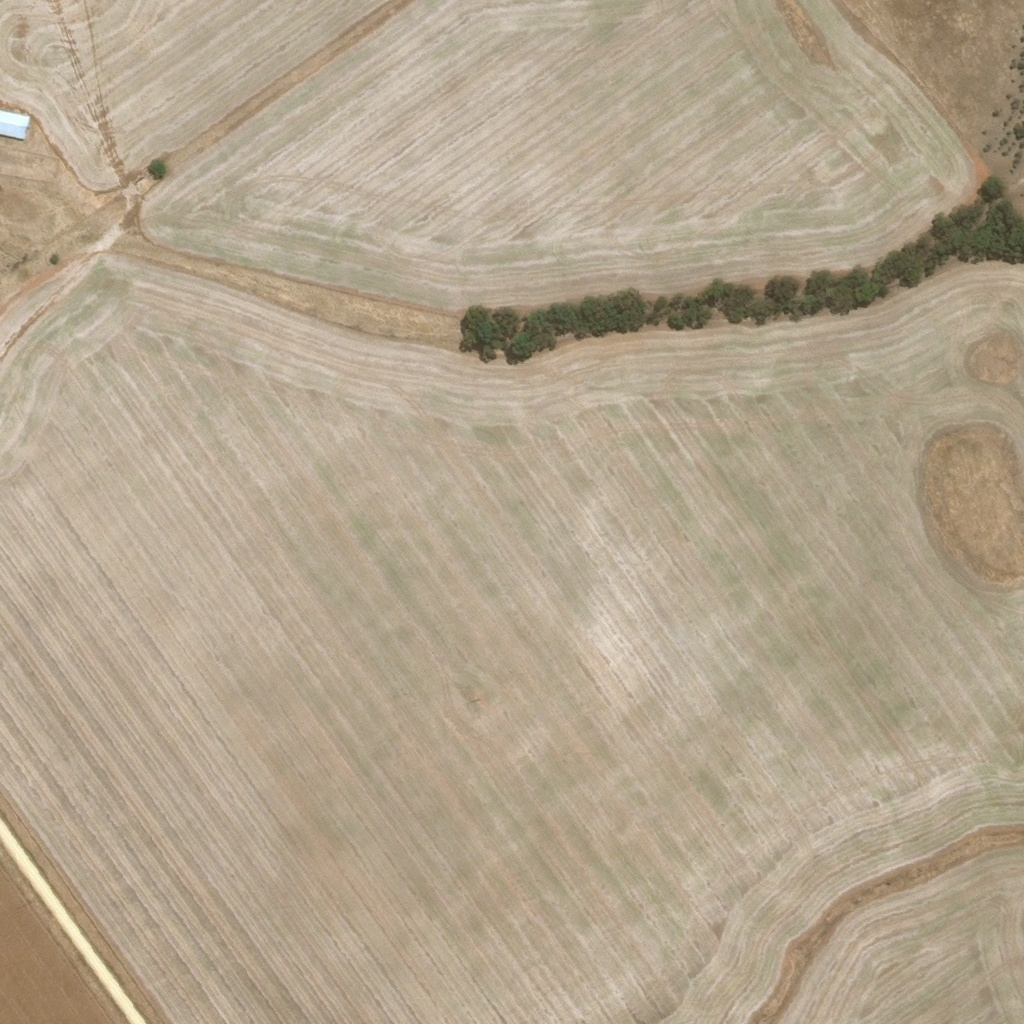0 no-damage: (0, 111, 28, 141)
